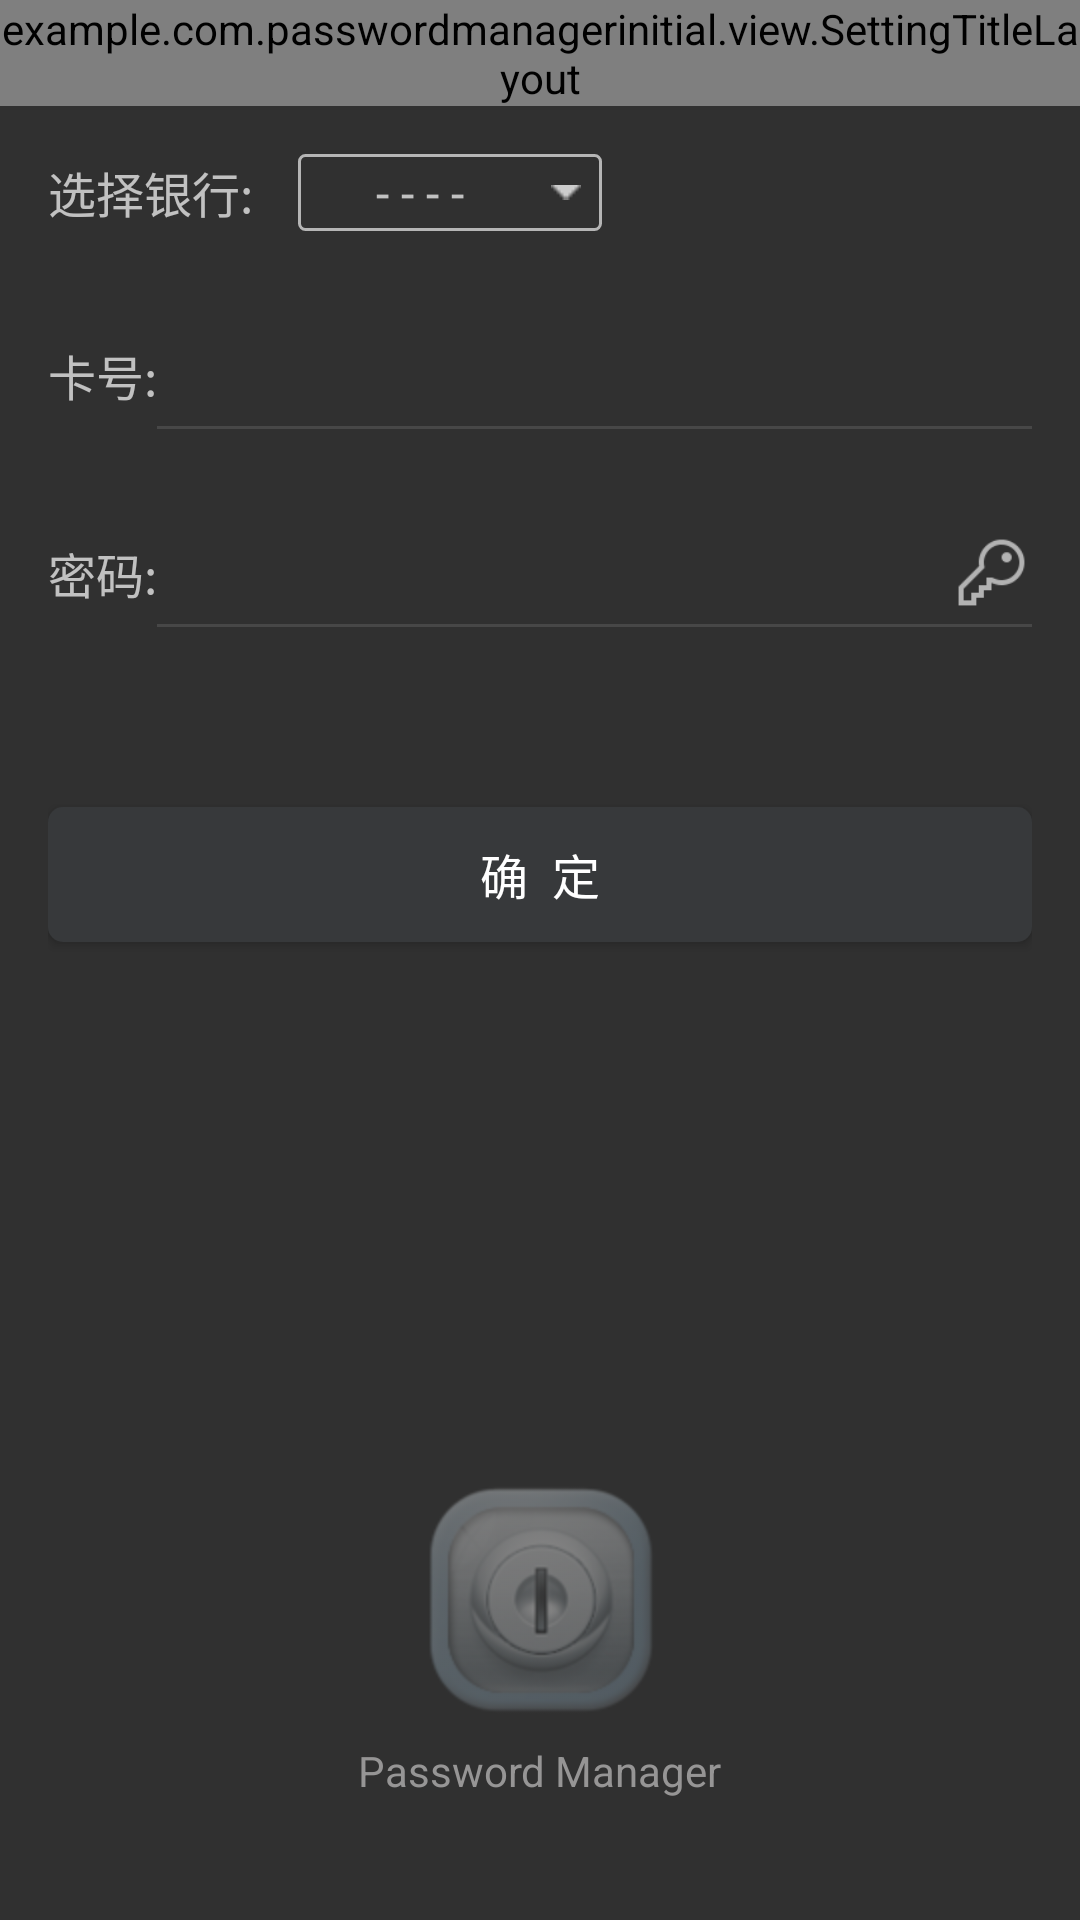

Screen size 1080 x 1920. Icon name, then its center in pixels as point (x, y):
down arrow: point (566, 192)
key: point (991, 572)
